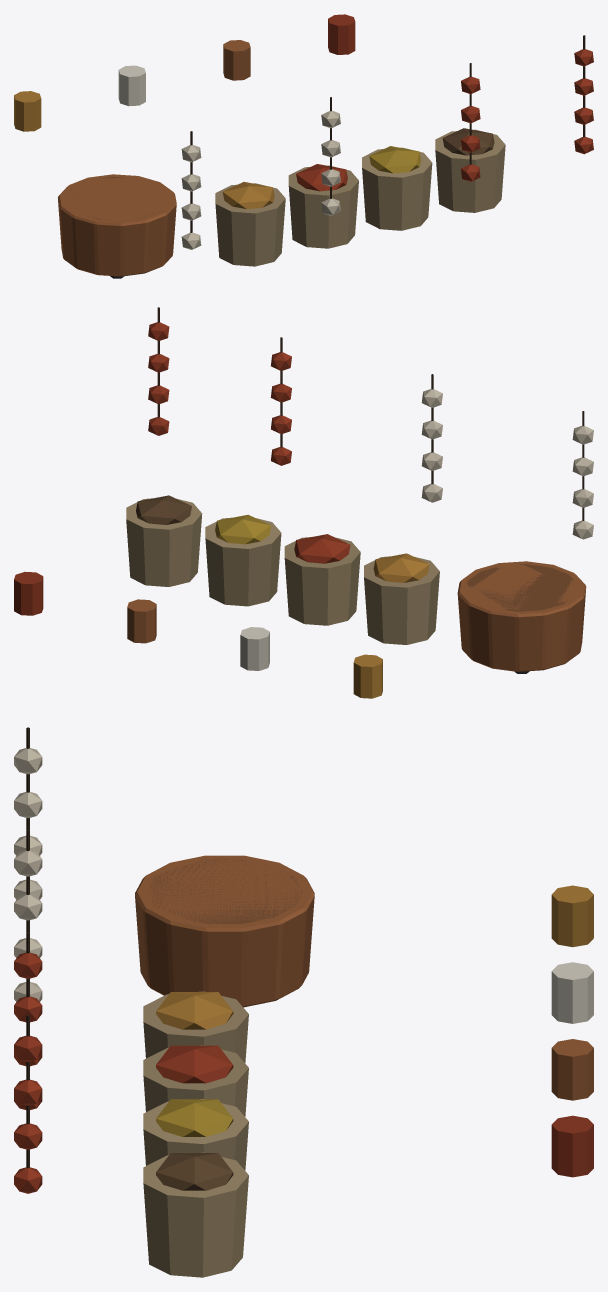
The model's file is goods_spice.glb.
The picture shows the model from 3 angles, top to bottom: view 1: azimuth 30°, elevation 25°; view 2: azimuth 150°, elevation 25°; view 3: azimuth 270°, elevation 25°; orthographic projection. The views are drawn at different scales.
Parts seen in each view (by area): view 1: goods_spice; view 2: goods_spice; view 3: goods_spice.
Part boxes in pixels (x1,y1,x2,y2): goods_spice: (14,14,593,278); goods_spice: (14,307,593,698); goods_spice: (14,727,593,1277).
Bounding box in the file's own units: 2.64 × 1.04 × 1.92.
